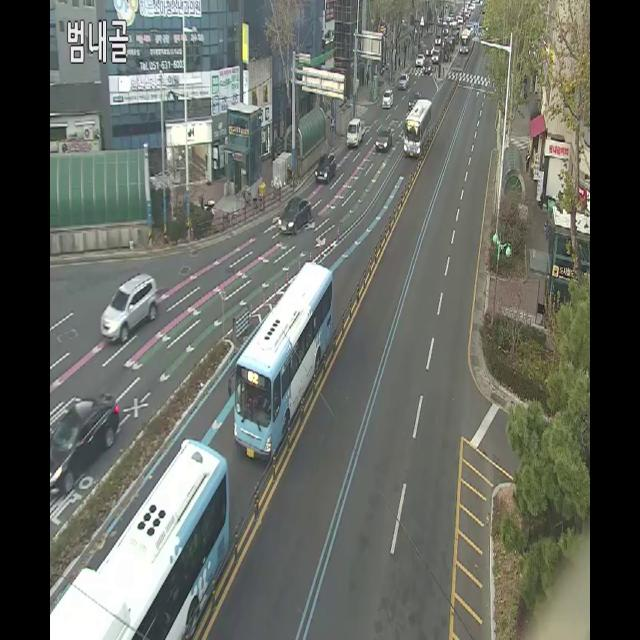car: (41, 417, 257, 640), (404, 96, 432, 160), (459, 18, 474, 54)
motorcycle: (49, 393, 120, 500), (100, 270, 158, 347), (279, 190, 311, 240), (344, 114, 364, 149), (316, 148, 334, 186), (376, 124, 391, 154), (382, 88, 394, 110), (398, 71, 409, 92), (414, 51, 425, 68)
